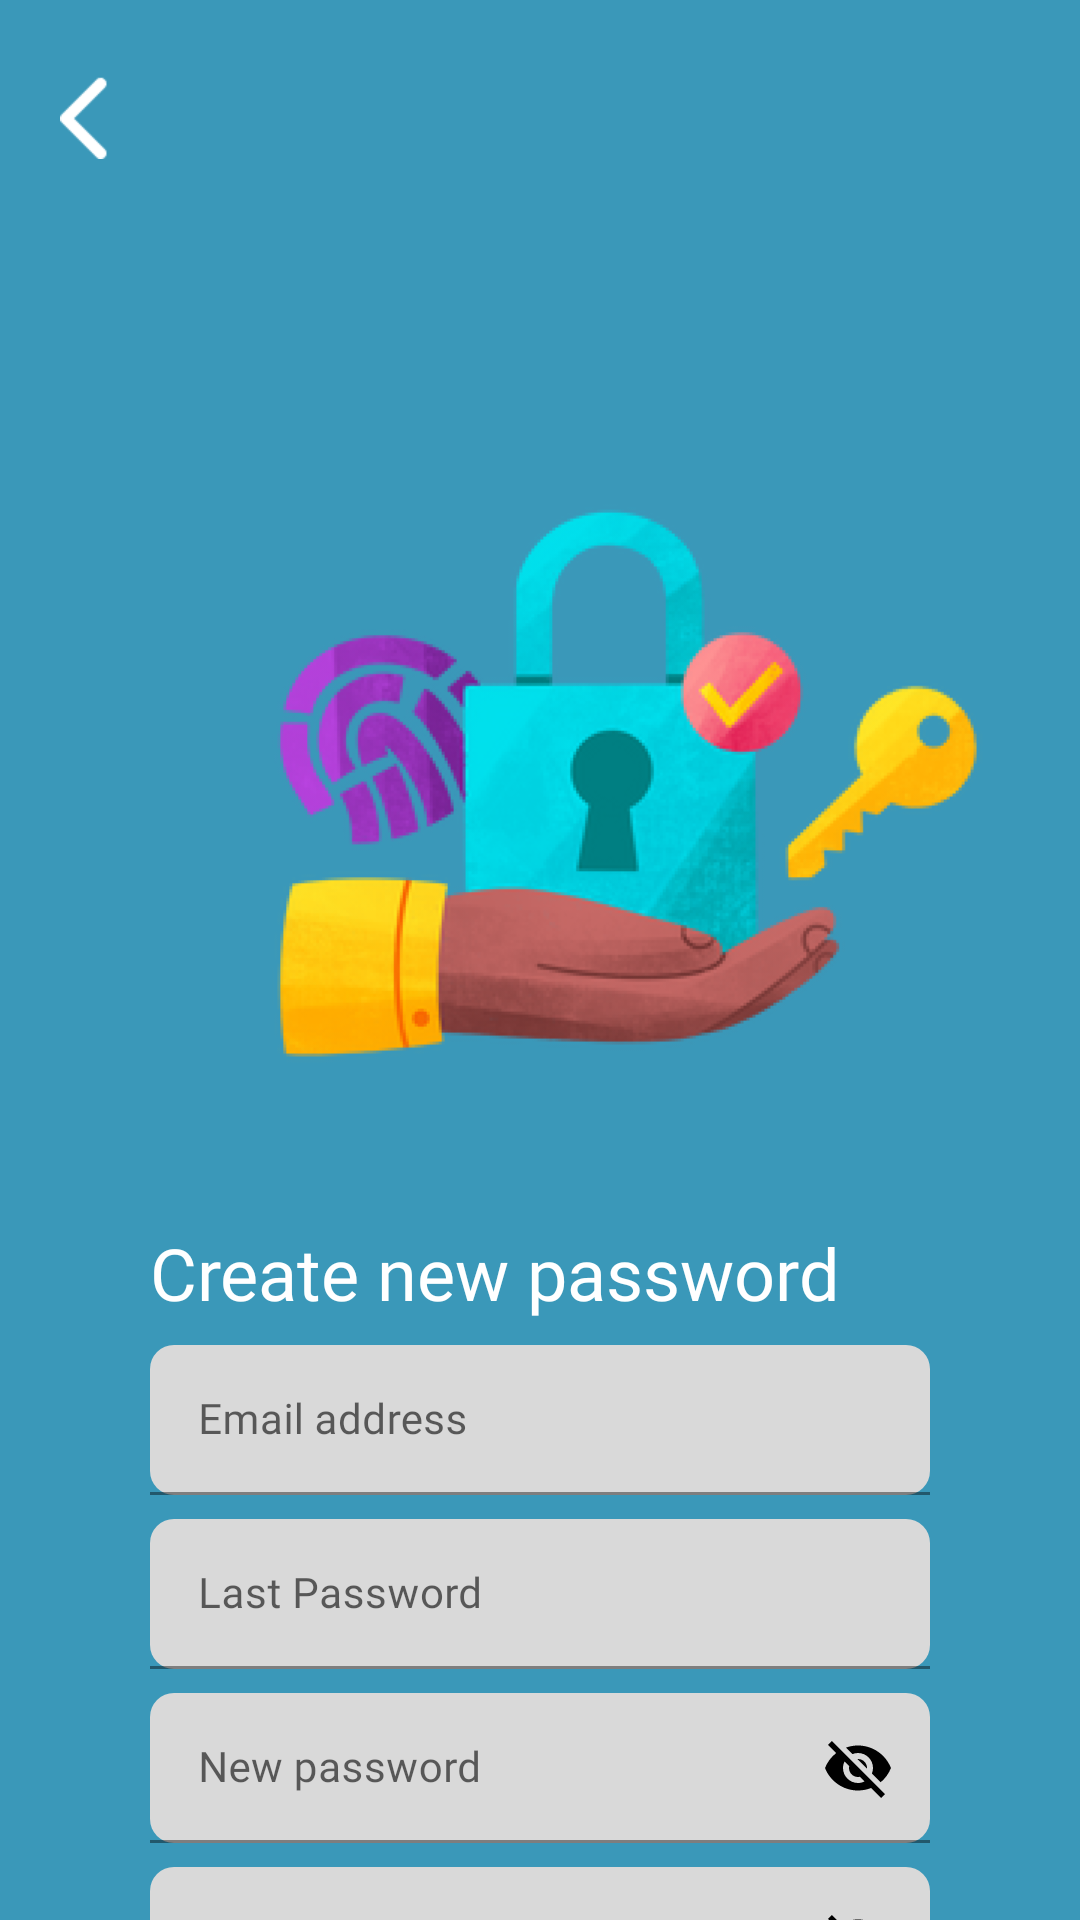

Icon bounding boxes for this 1080 x 1920 phone screenshot, format (x1, y1, x2, y2):
back: (60, 77, 107, 159)
